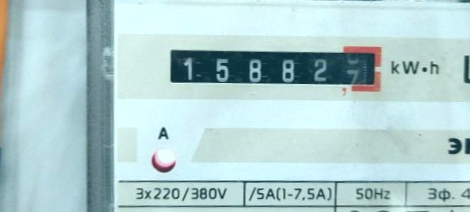1: (180, 50, 195, 78)
2: (311, 52, 328, 81)
5: (212, 52, 231, 79)
7: (343, 63, 360, 80)
8: (245, 53, 262, 81), (279, 52, 295, 81)
screen: (155, 29, 391, 97)
